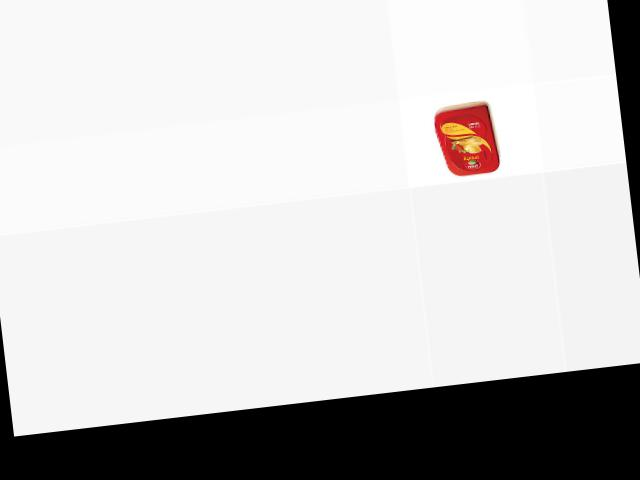cheese: (432, 99, 503, 182)
